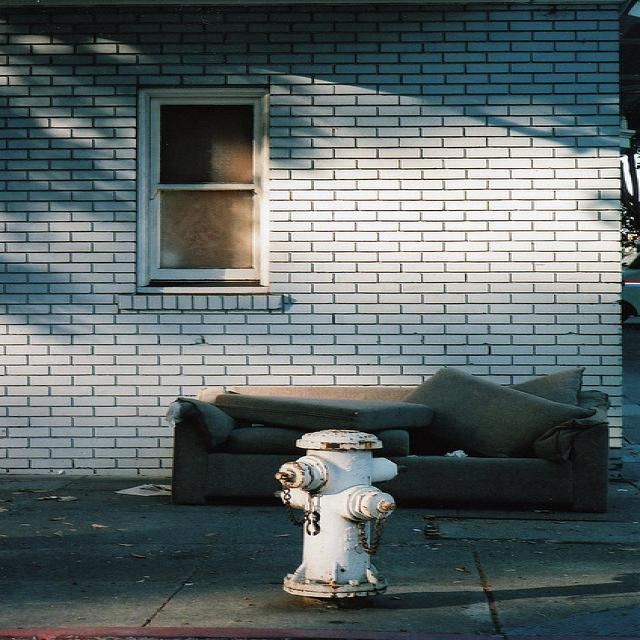fire_hydrant: (273, 429, 399, 610)
